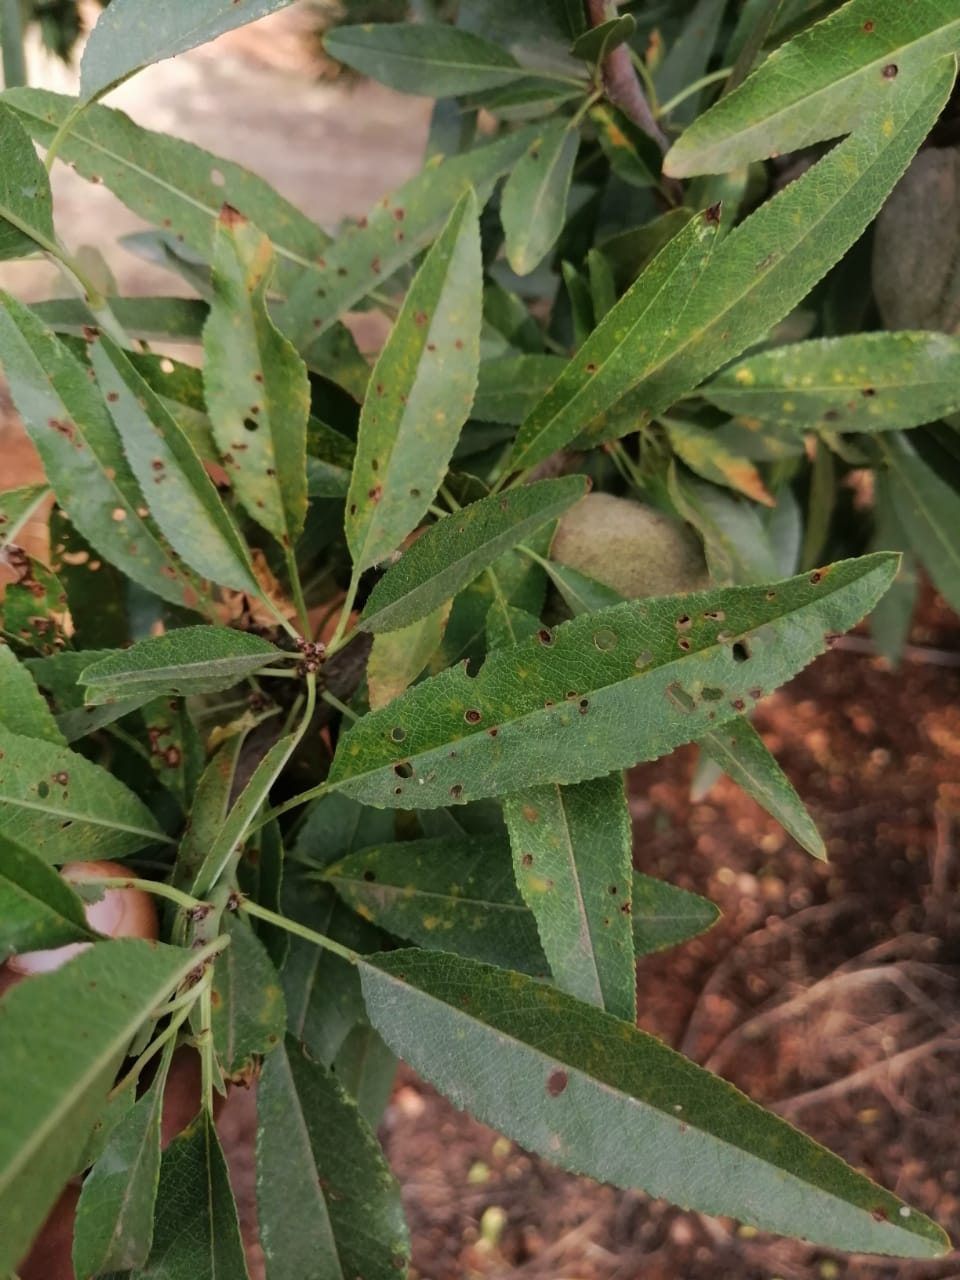coryneum: (357, 950, 956, 1257), (325, 546, 909, 814), (1, 291, 219, 618), (506, 199, 728, 477), (345, 181, 482, 573), (83, 321, 264, 598), (201, 200, 313, 541)
